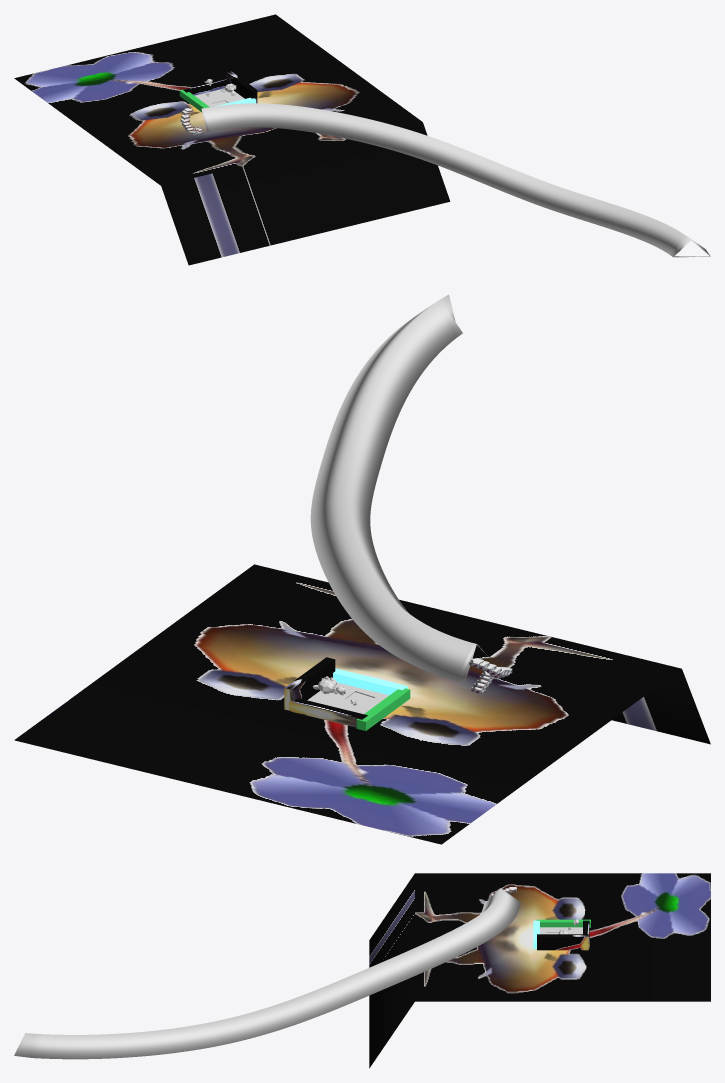
File: main.glb
3 renders of one model, top to bottom at view 1: azimuth 30°, elevation 25°; view 2: azimuth 150°, elevation 25°; view 3: azimuth 270°, elevation 25°, orthographic. The views are drawn at different scales.
Parts seen in each view (by area): view 1: Plane.019, NurbsCurve.039, Ground.019, Cube.344; view 2: Plane.019, NurbsCurve.039, Ground.019, Cube.344, Cube.342, Cube.343, Cube.345; view 3: Plane.019, NurbsCurve.039, Cube.344, Cube.345.
Boxes of the visible parts, x1,y1,x2,y2 form: Plane.019: (14,14,450,265); NurbsCurve.039: (201,103,710,257); Ground.019: (195,88,244,107); Cube.344: (226,71,257,103); Plane.019: (14,564,710,844); NurbsCurve.039: (310,294,490,682); Ground.019: (307,682,388,714); Cube.344: (284,657,335,710); Cube.342: (289,698,367,727); Cube.343: (333,668,407,695); Cube.345: (356,688,410,730); Plane.019: (369,873,710,1068); NurbsCurve.039: (14,888,520,1059); Cube.344: (537,934,588,950); Cube.345: (536,919,590,927).
Bounding box in the file's own units: 123 × 29.83 × 208.
Materials: 5 (2 with a texture image).
